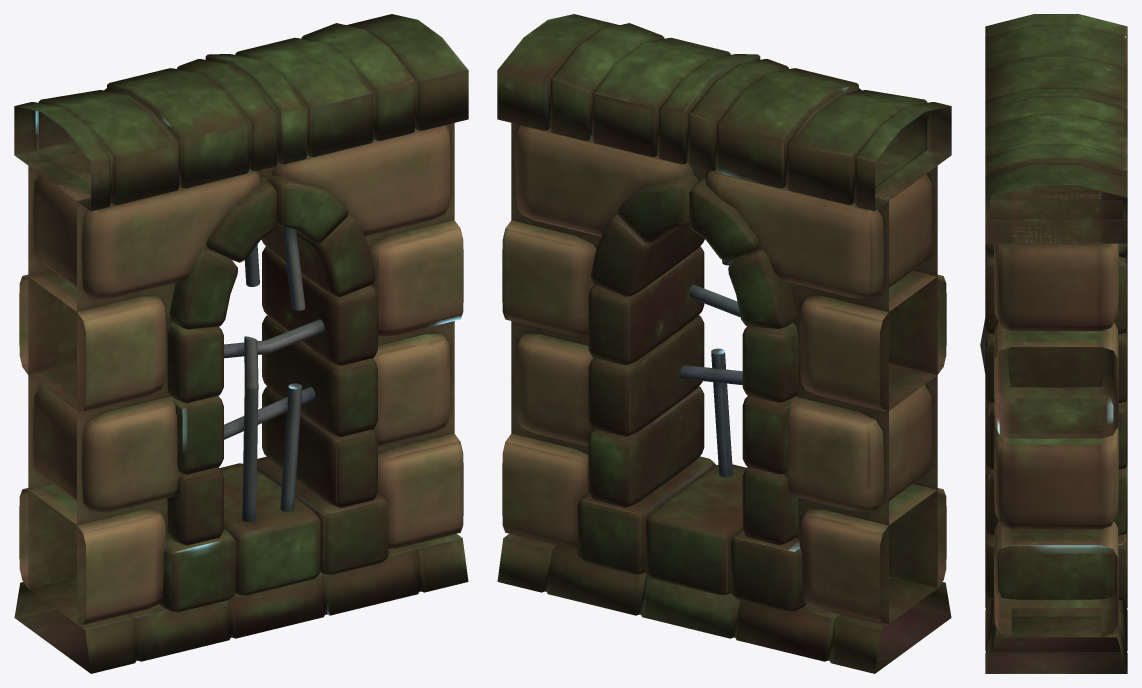
Rendered from ParedVentanaRota.fbx.
3 renders of one model, left to right at view 1: azimuth 30°, elevation 25°; view 2: azimuth 150°, elevation 25°; view 3: azimuth 270°, elevation 25°, orthographic. The views are drawn at different scales.
Parts seen in each view (by area): view 1: Broken_Window_Wall.004; view 2: Broken_Window_Wall.004; view 3: Broken_Window_Wall.004.
Part boxes in pixels (box(x1,y1,x2,y2)): Broken_Window_Wall.004: box(14, 14, 468, 673); Broken_Window_Wall.004: box(497, 14, 951, 673); Broken_Window_Wall.004: box(980, 14, 1127, 673).
Bounding box in the file's own units: 4 × 5.36 × 1.46.
